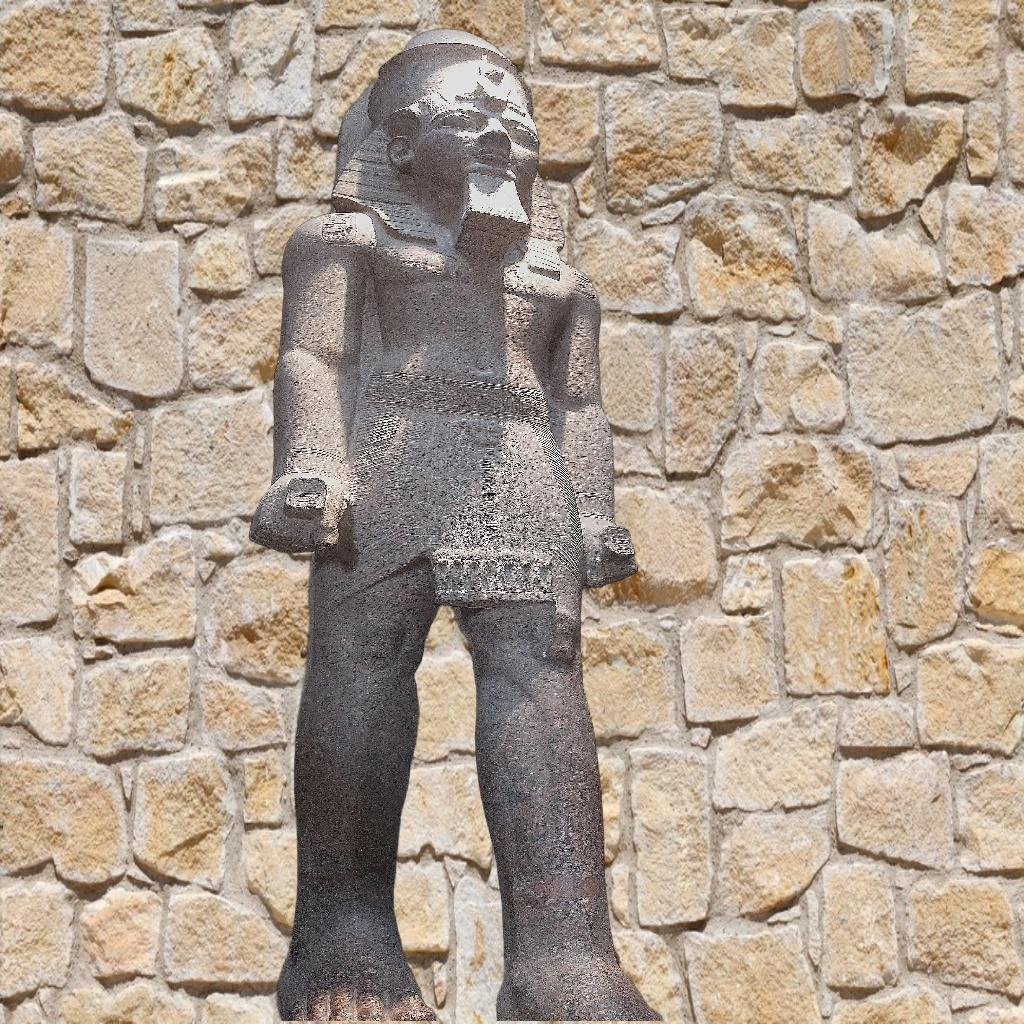Colossal Statue of Ramesses II: (158, 26, 664, 1021)
